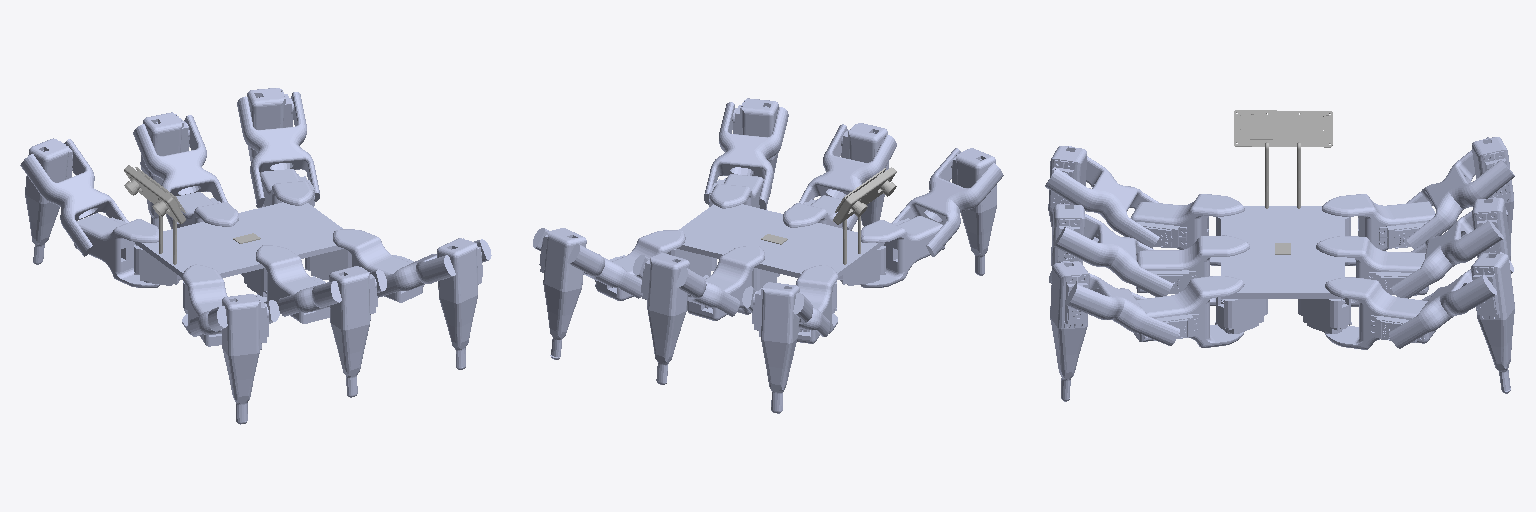
--- Facts derived from the render (not from the file) ---
The picture shows the robot from 3 angles, left to right: view 1: azimuth 30°, elevation 25°; view 2: azimuth 150°, elevation 25°; view 3: azimuth 270°, elevation 25°; orthographic projection.
Model hexaurdf10 with 27 links and 26 joints (18 revolute, 8 fixed), rooted at base_link, posed all joints at 0.
Visible links, largest first — view 1: base_link, tibia_lf, thigh_rf, tibia_lm, thigh_rr, tibia_lr, thigh_rm, c1_rf, tibia_rf, c1_lm, c1_lr, c1_lf (+8 smaller); view 2: base_link, tibia_rf, tibia_rm, thigh_lf, thigh_lr, tibia_rr, c1_lf, thigh_lm, tibia_lf, c1_rm, thigh_rr, tibia_lm (+8 smaller); view 3: base_link, camera_link, c1_lr, c1_rr, thigh_lf, thigh_rf, thigh_lm, thigh_rm, c1_lf, c1_rf, tibia_rr, tibia_lr (+8 smaller).
Link boxes in pixels (x1,y1,x2,y2): base_link: (134,202,351,313); tibia_lf: (222,294,268,421); thigh_rf: (20,139,128,256); tibia_lm: (329,266,377,394); thigh_rr: (237,92,319,206); tibia_lr: (437,238,482,367); thigh_rm: (133,115,227,228); c1_rf: (74,213,159,287); tibia_rf: (25,138,72,262); c1_lm: (256,245,329,323); c1_lr: (333,229,423,302); c1_lf: (182,264,227,346); base_link: (667,204,885,313); tibia_rf: (752,282,799,410); tibia_rm: (641,253,689,382); thigh_lf: (892,148,1003,256); thigh_lr: (704,102,788,209); tibia_rr: (539,228,586,357); c1_lf: (860,216,944,287); thigh_lm: (799,124,896,230); tibia_lf: (951,148,996,273); c1_rm: (687,246,764,320); thigh_rr: (533,228,642,298); tibia_lm: (841,123,888,226); base_link: (1215,206,1351,333); camera_link: (1234,110,1332,208); c1_lr: (1134,276,1244,347); c1_rr: (1325,277,1435,349); thigh_lf: (1045,146,1159,248); thigh_rf: (1406,137,1514,248); thigh_lm: (1052,203,1172,296); thigh_rm: (1391,197,1507,298); c1_lf: (1131,194,1244,265); c1_rf: (1322,194,1435,265); tibia_rr: (1471,253,1514,390); tibia_lr: (1050,261,1089,398).
Size in the robot's own frame: 0.3361 by 0.4542 by 0.1908 metres.
Meshes: 27 distinct files referenced, 27 mesh visuals loaded (27 binary STL).

URDF robot description (hexaurdf10):
<?xml version="1.0" encoding="utf-8"?>
<!-- This URDF was automatically created by SolidWorks to URDF Exporter! Originally created by Stephen Brawner ([email redacted]) 
     Commit Version: 1.6.0-1-g15f4949  Build Version: 1.6.7594.29634
     For more information, please see http://wiki.ros.org/sw_urdf_exporter -->
<robot
  name="hexaurdf10">
  <link
    name="base_link">
    <inertial>
      <origin
        xyz="-9.01995993685678E-05 -7.02233808926034E-06 -0.0170204486555059"
        rpy="0 0 0" />
      <mass
        value="0.527164873283659" />
      <inertia
        ixx="3.1081800"
        ixy="-0.25460189"
        ixz="2.0318174"
        iyy="6.3787776"
        iyz="0.16417863"
        izz="5.3316425" />
    </inertial>
    <visual>
      <origin
        xyz="0 0 0"
        rpy="0 0 0" />
      <geometry>
        <mesh
          filename="package://hexaurdf10/meshes/base_link.STL" />
      </geometry>
      <material
        name="">
        <color
          rgba="0.792156862745098 0.819607843137255 0.933333333333333 1" />
      </material>
    </visual>
    <collision>
      <origin
        xyz="0 0 0"
        rpy="0 0 0" />
      <geometry>
        <mesh
          filename="package://hexaurdf10/meshes/base_link.STL" />
      </geometry>
    </collision>
  </link>
  <link
    name="c1_rf">
    <inertial>
      <origin
        xyz="-0.00996677615501421 0.0534816504142664 0.0283131774124853"
        rpy="0 0 0" />
      <mass
        value="0.115130491493586" />
      <inertia
        ixx="0.0051411124"
        ixy="-0.00057530255"
        ixz="-0.000024729049"
        iyy="0.0081915737"
        iyz="-0.000019223094"
        izz="0.0011379812" />
    </inertial>
    <visual>
      <origin
        xyz="0 0 0"
        rpy="0 0 0" />
      <geometry>
        <mesh
          filename="package://hexaurdf10/meshes/c1_rf.STL" />
      </geometry>
      <material
        name="">
        <color
          rgba="0.792156862745098 0.819607843137255 0.933333333333333 1" />
      </material>
    </visual>
    <collision>
      <origin
        xyz="0 0 0"
        rpy="0 0 0" />
      <geometry>
        <mesh
          filename="package://hexaurdf10/meshes/c1_rf.STL" />
      </geometry>
    </collision>
  </link>
  <joint
    name="j_c1_rf"
    type="revolute">
    <origin
      xyz="-0.087434 0.047179 -0.05093"
      rpy="0 0 0" />
    <parent
      link="base_link" />
    <child
      link="c1_rf" />
    <axis
      xyz="0 0 1" />
    <limit
      lower="-1.57"
      upper="1.57"
      effort="100"
      velocity="100" />
  </joint>
  <link
    name="thigh_rf">
    <inertial>
      <origin
        xyz="-0.0392463982034434 0.033810727811229 0.0314749457890496"
        rpy="0 0 0" />
      <mass
        value="0.0660859499924982" />
      <inertia
        ixx="0.0051411124"
        ixy="-0.00057530255"
        ixz="-0.000024729049"
        iyy="0.0081915737"
        iyz="-0.000019223094"
        izz="0.0011379812" />
    </inertial>
    <visual>
      <origin
        xyz="0 0 0"
        rpy="0 0 0" />
      <geometry>
        <mesh
          filename="package://hexaurdf10/meshes/thigh_rf.STL" />
      </geometry>
      <material
        name="">
        <color
          rgba="0.792156862745098 0.819607843137255 0.933333333333333 1" />
      </material>
    </visual>
    <collision>
      <origin
        xyz="0 0 0"
        rpy="0 0 0" />
      <geometry>
        <mesh
          filename="package://hexaurdf10/meshes/thigh_rf.STL" />
      </geometry>
    </collision>
  </link>
  <joint
    name="j_thigh_rf"
    type="revolute">
    <origin
      xyz="0.016657 0.085859 0.0282"
      rpy="0 0 0" />
    <parent
      link="c1_rf" />
    <child
      link="thigh_rf" />
    <axis
      xyz="0.97301 0.23076 0" />
    <limit
      lower="-1.57"
      upper="1.57"
      effort="100"
      velocity="100" />
  </joint>
  <link
    name="tibia_rf">
    <inertial>
      <origin
        xyz="-0.0309143702456073 -0.00434467341630906 -0.0239746701916343"
        rpy="0 0 0" />
      <mass
        value="0.0831637264780428" />
      <inertia
        ixx="0.0051411124"
        ixy="-0.00057530255"
        ixz="-0.000024729049"
        iyy="0.0081915737"
        iyz="-0.000019223094"
        izz="0.0011379812" />
    </inertial>
    <visual>
      <origin
        xyz="0 0 0"
        rpy="0 0 0" />
      <geometry>
        <mesh
          filename="package://hexaurdf10/meshes/tibia_rf.STL" />
      </geometry>
      <material
        name="">
        <color
          rgba="0.792156862745098 0.819607843137255 0.933333333333333 1" />
      </material>
    </visual>
    <collision>
      <origin
        xyz="0 0 0"
        rpy="0 0 0" />
      <geometry>
        <mesh
          filename="package://hexaurdf10/meshes/tibia_rf.STL" />
      </geometry>
    </collision>
  </link>
  <joint
    name="j_tibia_rf"
    type="revolute">
    <origin
      xyz="-0.0205222673024253 0.0756993537012256 0.0588106656482051"
      rpy="0 0 0" />
    <parent
      link="thigh_rf" />
    <child
      link="tibia_rf" />
    <axis
      xyz="0.973010691759489 0.23076003493179 0" />
    <limit
      lower="-1.57"
      upper="1.57"
      effort="100"
      velocity="100" />
  </joint>
  <link
    name="tip1">
    <inertial>
      <origin
        xyz="2.8944120935015E-05 -0.000122044266207932 0.0010109650611296"
        rpy="0 0 0" />
      <mass
        value="0.000239235376940892" />
      <inertia
        ixx="1.17700421937413E-09"
        ixy="-2.38032850442416E-10"
        ixz="1.72208787878232E-11"
        iyy="2.12422901332552E-09"
        iyz="-7.26126566370207E-11"
        izz="2.7729159203194E-09" />
    </inertial>
    <visual>
      <origin
        xyz="0 0 0"
        rpy="0 0 0" />
      <geometry>
        <mesh
          filename="package://hexaurdf10/meshes/tip1.STL" />
      </geometry>
      <material
        name="">
        <color
          rgba="0.792156862745098 0.819607843137255 0.933333333333333 1" />
      </material>
    </visual>
    <collision>
      <origin
        xyz="0 0 0"
        rpy="0 0 0" />
      <geometry>
        <mesh
          filename="package://hexaurdf10/meshes/tip1.STL" />
      </geometry>
    </collision>
  </link>
  <joint
    name="tip1_jt"
    type="fixed">
    <origin
      xyz="-0.036037 0.0066924 -0.1204"
      rpy="0 0 0" />
    <parent
      link="tibia_rf" />
    <child
      link="tip1" />
    <axis
      xyz="0 0 0" />
    <limit
      effort="100"
      velocity="100" />
  </joint>
  <gazebo reference="tip1">
    <mu1 value="2000.0"/>
    <mu2 value="1000.0"/>
    <kp value="1000000"/>
    <kd value="1.0"/>
    <!-- Contact Sensor -->
    <sensor name="tip1_sensor" type="contact">
      <always_on>true</always_on>
      <contact>
        <collision>tibia_rf_fixed_joint_lump__tip1_collision_1</collision>
      </contact>
      <plugin filename="libgazebo_ros_bumper.so" name="back_left_foot_plugin">
        <bumperTopicName>tip1_contactsensor_state</bumperTopicName>
        <frameName>tip1</frameName>
      </plugin>
    </sensor>
  </gazebo>

  <link
    name="c1_rm">
    <inertial>
      <origin
        xyz="0.00702595295081485 0.0539468244177731 0.0283131778377294"
        rpy="0 0 0" />
      <mass
        value="0.115130507631966" />
      <inertia
        ixx="0.0051411124"
        ixy="-0.00057530255"
        ixz="-0.000024729049"
        iyy="0.0081915737"
        iyz="-0.000019223094"
        izz="0.0011379812" />
    </inertial>
    <visual>
      <origin
        xyz="0 0 0"
        rpy="0 0 0" />
      <geometry>
        <mesh
          filename="package://hexaurdf10/meshes/c1_rm.STL" />
      </geometry>
      <material
        name="">
        <color
          rgba="0.792156862745098 0.819607843137255 0.933333333333333 1" />
      </material>
    </visual>
    <collision>
      <origin
        xyz="0 0 0"
        rpy="0 0 0" />
      <geometry>
        <mesh
          filename="package://hexaurdf10/meshes/c1_rm.STL" />
      </geometry>
    </collision>
  </link>
  <joint
    name="j_c1_rm"
    type="revolute">
    <origin
      xyz="1.04119442682904E-05 0.0419777704086039 -0.05093"
      rpy="0 0 0" />
    <parent
      link="base_link" />
    <child
      link="c1_rm" />
    <axis
      xyz="0 0 1" />
    <limit
      lower="-1.57"
      upper="1.57"
      effort="100"
      velocity="100" />
  </joint>
  <link
    name="thigh_rm">
    <inertial>
      <origin
        xyz="-0.026895361536933 0.0442728429591131 0.0314749456998863"
        rpy="0 0 0" />
      <mass
        value="0.0660859497825229" />
      <inertia
        ixx="0.0051411124"
        ixy="-0.00057530255"
        ixz="-0.000024729049"
        iyy="0.0081915737"
        iyz="-0.000019223094"
        izz="0.0011379812" />
    </inertial>
    <visual>
      <origin
        xyz="0 0 0"
        rpy="0 0 0" />
      <geometry>
        <mesh
          filename="package://hexaurdf10/meshes/thigh_rm.STL" />
      </geometry>
      <material
        name="">
        <color
          rgba="0.792156862745098 0.819607843137255 0.933333333333333 1" />
      </material>
    </visual>
    <collision>
      <origin
        xyz="0 0 0"
        rpy="0 0 0" />
      <geometry>
        <mesh
          filename="package://hexaurdf10/meshes/thigh_rm.STL" />
      </geometry>
    </collision>
  </link>
  <joint
    name="j_thigh_rm"
    type="revolute">
    <origin
      xyz="0.0423424111674541 0.0765264348093442 0.0282"
      rpy="0 0 0" />
    <parent
      link="c1_rm" />
    <child
      link="thigh_rm" />
    <axis
      xyz="0.996729696182891 -0.080807875526849 0" />
    <limit
      lower="-1.57"
      upper="1.57"
      effort="100"
      velocity="100" />
  </joint>
  <link
    name="tibia_rm">
    <inertial>
      <origin
        xyz="-0.0307460867657561 0.00540861064554149 -0.0239746471855047"
        rpy="0 0 0" />
      <mass
        value="0.0831636657575238" />
      <inertia
        ixx="0.0051411124"
        ixy="-0.00057530255"
        ixz="-0.000024729049"
        iyy="0.0081915737"
        iyz="-0.000019223094"
        izz="0.0011379812" />
    </inertial>
    <visual>
      <origin
        xyz="0 0 0"
        rpy="0 0 0" />
      <geometry>
        <mesh
          filename="package://hexaurdf10/meshes/tibia_rm.STL" />
      </geometry>
      <material
        name="">
        <color
          rgba="0.792156862745098 0.819607843137255 0.933333333333333 1" />
      </material>
    </visual>
    <collision>
      <origin
        xyz="0 0 0"
        rpy="0 0 0" />
      <geometry>
        <mesh
          filename="package://hexaurdf10/meshes/tibia_rm.STL" />
      </geometry>
    </collision>
  </link>
  <joint
    name="j_tibia_rm"
    type="revolute">
    <origin
      xyz="0.0038428667079584 0.0783376536633586 0.0588106656482051"
      rpy="0 0 0" />
    <parent
      link="thigh_rm" />
    <child
      link="tibia_rm" />
    <axis
      xyz="0.996729696182889 -0.0808078755268694 0" />
    <limit
      lower="-1.57"
      upper="1.57"
      effort="100"
      velocity="100" />
  </joint>
  <link
    name="tip2">
    <inertial>
      <origin
        xyz="-1.01356932210722E-05 -0.000125019329600962 0.00101096506112963"
        rpy="0 0 0" />
      <mass
        value="0.000239235376940891" />
      <inertia
        ixx="1.12747469759534E-09"
        ixy="8.53866107810884E-11"
        ixz="-6.03043169915054E-12"
        iyy="2.1737585351043E-09"
        iyz="-7.43827296059554E-11"
        izz="2.77291592031939E-09" />
    </inertial>
    <visual>
      <origin
        xyz="0 0 0"
        rpy="0 0 0" />
      <geometry>
        <mesh
          filename="package://hexaurdf10/meshes/tip2.STL" />
      </geometry>
      <material
        name="">
        <color
          rgba="0.792156862745098 0.819607843137255 0.933333333333333 1" />
      </material>
    </visual>
    <collision>
      <origin
        xyz="0 0 0"
        rpy="0 0 0" />
      <geometry>
        <mesh
          filename="package://hexaurdf10/meshes/tip2.STL" />
      </geometry>
    </collision>
  </link>
  <joint
    name="tip2_jt"
    type="fixed">
    <origin
      xyz="-0.032212 0.017488 -0.1204"
      rpy="0 0 0" />
    <parent
      link="tibia_rm" />
    <child
      link="tip2" />
    <axis
      xyz="0 0 0" />
    <limit
      effort="100"
      velocity="100" />
  </joint>
  <gazebo reference="tip2">
    <mu1 value="2000.0"/>
    <mu2 value="1000.0"/>
    <kp value="1000000"/>
    <kd value="1.0"/>
    <!-- Contact Sensor -->
    <sensor name="tip2_sensor" type="contact">
      <always_on>true</always_on>
      <contact>
        <collision>tibia_rm_fixed_joint_lump__tip2_collision_1</collision>
      </contact>
      <plugin filename="libgazebo_ros_bumper.so" name="tip2_plugin">
        <bumperTopicName>tip2_contactsensor_state</bumperTopicName>
        <frameName>tip2</frameName>
      </plugin>
    </sensor>
  </gazebo>
  <link
    name="c1_rr">
    <inertial>
      <origin
        xyz="0.0221997669125888 0.0542198822140822 0.0283131763965716"
        rpy="0 0 0" />
      <mass
        value="0.115130485576148" />
      <inertia
        ixx="0.0051411124"
        ixy="-0.00057530255"
        ixz="-0.000024729049"
        iyy="0.0081915737"
        iyz="-0.000019223094"
        izz="0.0011379812" />
    </inertial>
    <visual>
      <origin
        xyz="0 0 0"
        rpy="0 0 0" />
      <geometry>
        <mesh
          filename="package://hexaurdf10/meshes/c1_rr.STL" />
      </geometry>
      <material
        name="">
        <color
          rgba="0.792156862745098 0.819607843137255 0.933333333333333 1" />
      </material>
    </visual>
    <collision>
      <origin
        xyz="0 0 0"
        rpy="0 0 0" />
      <geometry>
        <mesh
          filename="package://hexaurdf10/meshes/c1_rr.STL" />
      </geometry>
    </collision>
  </link>
  <joint
    name="j_c1_rr"
    type="revolute">
    <origin
      xyz="0.0872345529340218 0.0471785774978925 -0.05093"
      rpy="0 0 0" />
    <parent
      link="base_link" />
    <child
      link="c1_rr" />
    <axis
      xyz="0 0 1" />
    <limit
      lower="-1.57"
      upper="1.57"
      effort="100"
      velocity="100" />
  </joint>
  <link
    name="thigh_rr">
    <inertial>
      <origin
        xyz="-0.0162592743139039 0.0491841543475647 0.0314749458152822"
        rpy="0 0 0" />
      <mass
        value="0.0660859500921707" />
      <inertia
        ixx="0.0051411124"
        ixy="-0.00057530255"
        ixz="-0.000024729049"
        iyy="0.0081915737"
        iyz="-0.000019223094"
        izz="0.0011379812" />
    </inertial>
    <visual>
      <origin
        xyz="0 0 0"
        rpy="0 0 0" />
      <geometry>
        <mesh
          filename="package://hexaurdf10/meshes/thigh_rr.STL" />
      </geometry>
      <material
        name="">
        <color
          rgba="0.792156862745098 0.819607843137255 0.933333333333333 1" />
      </material>
    </visual>
    <collision>
      <origin
        xyz="0 0 0"
        rpy="0 0 0" />
      <geometry>
        <mesh
          filename="package://hexaurdf10/meshes/thigh_rr.STL" />
      </geometry>
    </collision>
  </link>
  <joint
    name="j_thigh_rr"
    type="revolute">
    <origin
      xyz="0.0616868050052167 0.0682863147581348 0.0282000000000001"
      rpy="0 0 0" />
    <parent
      link="c1_rr" />
    <child
      link="thigh_rr" />
    <axis
      xyz="0.956610607760163 -0.291369430655879 0" />
    <limit
      lower="-1.57"
      upper="1.57"
      effort="100"
      velocity="100" />
  </joint>
  <link
    name="tibia_rr">
    <inertial>
      <origin
        xyz="-0.0287444949835653 0.0121790653958599 -0.0239746721026053"
        rpy="0 0 0" />
      <mass
        value="0.0831637267082012" />
      <inertia
        ixx="0.0051411124"
        ixy="-0.00057530255"
        ixz="-0.000024729049"
        iyy="0.0081915737"
        iyz="-0.000019223094"
        izz="0.0011379812" />
    </inertial>
    <visual>
      <origin
        xyz="0 0 0"
        rpy="0 0 0" />
      <geometry>
        <mesh
          filename="package://hexaurdf10/meshes/tibia_rr.STL" />
      </geometry>
      <material
        name="">
        <color
          rgba="0.792156862745098 0.819607843137255 0.933333333333333 1" />
      </material>
    </visual>
    <collision>
      <origin
        xyz="0 0 0"
        rpy="0 0 0" />
      <geometry>
        <mesh
          filename="package://hexaurdf10/meshes/tibia_rr.STL" />
      </geometry>
    </collision>
  </link>
  <joint
    name="j_tibia_rr"
    type="revolute">
    <origin
      xyz="0.0213473915477253 0.0754708187322992 0.0588106656482051"
      rpy="0 0 0" />
    <parent
      link="thigh_rr" />
    <child
      link="tibia_rr" />
    <axis
      xyz="0.956610607760165 -0.291369430655872 0" />
    <limit
      lower="-1.57"
      upper="1.57"
      effort="100"
      velocity="100" />
  </joint>
  <link
    name="tip3">
    <inertial>
      <origin
        xyz="0.00101096506112963 -0.000119544680993067 3.79688595718852E-05"
        rpy="0 0 0" />
      <mass
        value="0.000239235376940891" />
      <inertia
        ixx="2.77291592031939E-09"
        ixy="-7.11254788401556E-11"
        ixz="2.25903260239757E-11"
        iyy="2.0835374700736E-09"
        iyz="-3.05855970793227E-10"
        izz="1.21769576262603E-09" />
    </inertial>
    <visual>
      <origin
        xyz="0 0 0"
        rpy="0 0 0" />
      <geometry>
        <mesh
          filename="package://hexaurdf10/meshes/tip3.STL" />
      </geometry>
      <material
        name="">
        <color
          rgba="0.792156862745098 0.819607843137255 0.933333333333333 1" />
      </material>
    </visual>
    <collision>
      <origin
        xyz="0 0 0"
        rpy="0 0 0" />
      <geometry>
        <mesh
          filename="package://hexaurdf10/meshes/tip3.STL" />
      </geometry>
    </collision>
  </link>
  <joint
    name="tip3_jt"
    type="fixed">
    <origin
      xyz="-0.0274588315162456 0.0242788522498839 -0.12040476058911"
      rpy="3.14159265358979 -1.5707963267949 0" />
    <parent
      link="tibia_rr" />
    <child
      link="tip3" />
    <axis
      xyz="0 0 0" />
    <limit
      effort="100"
      velocity="100" />
  </joint>
  <gazebo reference="tip3">
    <mu1 value="2000.0"/>
    <mu2 value="1000.0"/>
    <kp value="1000000"/>
    <kd value="1.0"/>
    <!-- Contact Sensor -->
    <sensor name="tip3_sensor" type="contact">
      <always_on>true</always_on>
      <contact>
        <collision>tibia_rr_fixed_joint_lump__tip3_collision_1</collision>
      </contact>
      <plugin filename="libgazebo_ros_bumper.so" name="tip3_plugin">
        <bumperTopicName>tip3_contactsensor_state</bumperTopicName>
        <frameName>tip3</frameName>
      </plugin>
    </sensor>
  </gazebo>
  <link
    name="c1_lr">
    <inertial>
      <origin
        xyz="0.0184026875519722 -0.051195357644339 0.0282453400903533"
        rpy="0 0 0" />
      <mass
        value="0.115130487166804" />
      <inertia
        ixx="0.0051411124"
        ixy="-0.00057530255"
        ixz="-0.000024729049"
        iyy="0.0081915737"
        iyz="-0.000019223094"
        izz="0.0011379812" />
    </inertial>
    <visual>
      <origin
        xyz="0 0 0"
        rpy="0 0 0" />
      <geometry>
        <mesh
          filename="package://hexaurdf10/meshes/c1_lr.STL" />
      </geometry>
      <material
        name="">
        <color
          rgba="0.792156862745098 0.819607843137255 0.933333333333333 1" />
      </material>
    </visual>
    <collision>
      <origin
        xyz="0 0 0"
        rpy="0 0 0" />
      <geometry>
        <mesh
          filename="package://hexaurdf10/meshes/c1_lr.STL" />
      </geometry>
    </collision>
  </link>
  <joint
    name="j_c1_lr"
    type="revolute">
    <origin
      xyz="0.0870789894421607 -0.0473341409897536 -0.05093"
      rpy="0 0 0" />
    <parent
      link="base_link" />
    <child
      link="c1_lr" />
    <axis
      xyz="0 0 -1" />
    <limit
      lower="-1.57"
      upper="1.57"
      effort="100"
      velocity="100" />
  </joint>
  <link
    name="thigh_lr">
    <inertial>
      <origin
        xyz="-0.015725862641403 -0.0525267254797426 0.0258410063023246"
        rpy="0 0 0" />
      <mass
        value="0.0660859502202923" />
      <inertia
        ixx="0.0051411124"
        ixy="-0.00057530255"
        ixz="-0.000024729049"
        iyy="0.0081915737"
        iyz="-0.000019223094"
        izz="0.0011379812" />
    </inertial>
    <visual>
      <origin
        xyz="0 0 0"
        rpy="0 0 0" />
      <geometry>
        <mesh
          filename="package://hexaurdf10/meshes/thigh_lr.STL" />
      </geometry>
      <material
        name="">
        <color
          rgba="0.792156862745098 0.819607843137255 0.933333333333333 1" />
      </material>
    </visual>
    <collision>
      <origin
        xyz="0 0 0"
        rpy="0 0 0" />
      <geometry>
        <mesh
          filename="package://hexaurdf10/meshes/thigh_lr.STL" />
      </geometry>
    </collision>
  </link>
  <joint
    name="j_thigh_lr"
    type="revolute">
    <origin
      xyz="0.0577315713668131 -0.065698102526794 0.0282"
      rpy="0 0 0" />
    <parent
      link="c1_lr" />
    <child
      link="thigh_lr" />
    <axis
      xyz="-0.956375489427927 -0.292140245809256 0" />
    <limit
      lower="-1.57"
      upper="1.57"
      effort="100"
      velocity="100" />
  </joint>
  <link
    name="tibia_lr">
    <inertial>
      <origin
        xyz="-0.0294274762289797 -0.0100598567813739 -0.0241284533134065"
        rpy="0 0 0" />
      <mass
        value="0.0831637325814451" />
      <inertia
        ixx="0.0051411124"
        ixy="-0.00057530255"
        ixz="-0.000024729049"
        iyy="0.0081915737"
        iyz="-0.000019223094"
        izz="0.0011379812" />
    </inertial>
    <visual>
      <origin
        xyz="0 0 0"
        rpy="0 0 0" />
      <geometry>
        <mesh
          filename="package://hexaurdf10/meshes/tibia_lr.STL" />
      </geometry>
      <material
        name="">
        <color
          rgba="0.792156862745098 0.819607843137255 0.933333333333333 1" />
      </material>
    </visual>
    <collision>
      <origin
        xyz="0 0 0"
        rpy="0 0 0" />
      <geometry>
        <mesh
          filename="package://hexaurdf10/meshes/tibia_lr.STL" />
      </geometry>
    </collision>
  </link>
  <joint
    name="j_tibia_lr"
    type="revolute">
    <origin
      xyz="0.0225227920570593 -0.0822900871129893 0.0482836970507796"
      rpy="0 0 0" />
    <parent
      link="thigh_lr" />
    <child
      link="tibia_lr" />
    <axis
      xyz="-0.956375489427925 -0.292140245809264 0" />
    <limit
      lower="-1.57"
      upper="1.57"
      effort="100"
      velocity="100" />
  </joint>
  <link
    name="tip4">
    <inertial>
      <origin
        xyz="-1.34483772956662E-05 4.40257670850236E-05 0.00101767568156874"
        rpy="0 0 0" />
      <mass
        value="0.000239235376940891" />
      <inertia
        ixx="1.21034606196609E-09"
        ixy="-2.93957096001634E-10"
        ixz="-8.05449062996898E-12"
        iyy="2.08287543495912E-09"
        iyz="2.63678747753188E-11"
        izz="2.78092765609382E-09" />
    </inertial>
    <visual>
      <origin
        xyz="0 0 0"
        rpy="0 0 0" />
      <geometry>
        <mesh
          filename="package://hexaurdf10/meshes/tip4.STL" />
      </geometry>
      <material
        name="">
        <color
          rgba="0.792156862745098 0.819607843137255 0.933333333333333 1" />
      </material>
    </visual>
    <collision>
      <origin
        xyz="0 0 0"
        rpy="0 0 0" />
      <geometry>
        <mesh
          filename="package://hexaurdf10/meshes/tip4.STL" />
      </geometry>
    </collision>
  </link>
  <joint
    name="tip4_jt"
    type="fixed">
    <origin
      xyz="-0.0304883031090567 -0.014930274944373 -0.121195324707457"
      rpy="0 0 0" />
    <parent
      link="tibia_lr" />
    <child
      link="tip4" />
    <axis
      xyz="0 0 0" />
  </joint>
  <gazebo reference="tip4">
    <mu1 value="2000.0"/>
    <mu2 value="1000.0"/>
    <kp value="1000000"/>
    <kd value="1.0"/>
    <!-- Contact Sensor -->
    <sensor name="tip4_sensor" type="contact">
      <always_on>true</always_on>
      <contact>
        <collision>tibia_lr_fixed_joint_lump__tip4_collision_1</collision>
      </contact>
      <plugin filename="libgazebo_ros_bumper.so" name="tip4_plugin">
        <bumperTopicName>tip4_contactsensor_state</bumperTopicName>
        <frameName>tip4</frameName>
      </plugin>
    </sensor>
  </gazebo>
  <link
    name="c1_lm">
    <inertial>
      <origin
        xyz="0.00410518430927102 -0.0542473170200753 0.0282453387557866"
        rpy="0 0 0" />
      <mass
        value="0.11513051040574" />
      <inertia
        ixx="0.0051411124"
        ixy="-0.00057530255"
        ixz="-0.000024729049"
        iyy="0.0081915737"
        iyz="-0.000019223094"
        izz="0.0011379812" />
    </inertial>
    <visual>
      <origin
        xyz="0 0 0"
        rpy="0 0 0" />
      <geometry>
        <mesh
          filename="package://hexaurdf10/meshes/c1_lm.STL" />
      </geometry>
      <material
        name="">
        <color
          rgba="0.792156862745098 0.819607843137255 0.933333333333333 1" />
      </material>
    </visual>
    <collision>
      <origin
        xyz="0 0 0"
        rpy="0 0 0" />
      <geometry>
        <mesh
          filename="package://hexaurdf10/meshes/c1_lm.STL" />
      </geometry>
    </collision>
  </link>
  <joint
    name="j_c1_lm"
    type="revolute">
    <origin
      xyz="-0.000209588055731805 -0.041977770408604 -0.05093"
      rpy="0 0 0" />
    <parent
      link="base_link" />
    <child
      link="c1_lm" />
    <axis
      xyz="0 0 -1" />
    <limit
      lower="-1.57"
      upper="1.57"
      effort="100"
      velocity="100" />
  </joint>
  <link
    name="thigh_lm">
    <inertial>
      <origin
        xyz="-0.0291455773014262 -0.0464423839953297 0.0258410061827461"
        rpy="0 0 0" />
      <mass
        value="0.0660859498433511" />
      <inertia
        ixx="0.0051411124"
        ixy="-0.00057530255"
        ixz="-0.000024729049"
        iyy="0.0081915737"
        iyz="-0.000019223094"
        izz="0.0011379812" />
    </inertial>
    <visual>
      <origin
        xyz="0 0 0"
        rpy="0 0 0" />
      <geometry>
        <mesh
          filename="package://hexaurdf10/meshes/thigh_lm.STL" />
      </geometry>
      <material
        name="">
        <color
          rgba="0.792156862745098 0.819607843137255 0.933333333333333 1" />
      </material>
    </visual>
    <collision>
      <origin
        xyz="0 0 0"
        rpy="0 0 0" />
      <geometry>
        <mesh
          filename="package://hexaurdf10/meshes/thigh_lm.STL" />
      </geometry>
    </collision>
  </link>
  <joint
    name="j_thigh_lm"
    type="revolute">
    <origin
      xyz="0.0381519901013576 -0.0786994323957198 0.0282000000000001"
      rpy="0 0 0" />
    <parent
      link="c1_lm" />
    <child
      link="thigh_lm" />
    <axis
      xyz="-0.99577013165006 0.0918795130245163 0" />
    <limit
      lower="-1.57"
      upper="1.57"
      effort="100"
      velocity="100" />
  </joint>
  <link
    name="tibia_lm">
    <inertial>
      <origin
        xyz="-0.0310437838343144 -0.00186025755413441 -0.0241284529459698"
        rpy="0 0 0" />
      <mass
        value="0.0831637330024272" />
      <inertia
        ixx="0.0051411124"
        ixy="-0.00057530255"
        ixz="-0.000024729049"
        iyy="0.0081915737"
        iyz="-0.000019223094"
        izz="0.0011379812" />
    </inertial>
    <visual>
      <origin
        xyz="0 0 0"
        rpy="0 0 0" />
      <geometry>
        <mesh
          filename="package://hexaurdf10/meshes/tibia_lm.STL" />
      </geometry>
      <material
        name="">
        <color
          rgba="0.792156862745098 0.819607843137255 0.933333333333333 1" />
      </material>
    </visual>
    <collision>
      <origin
        xyz="0 0 0"
        rpy="0 0 0" />
      <geometry>
        <mesh
          filename="package://hexaurdf10/meshes/tibia_lm.STL" />
      </geometry>
    </collision>
  </link>
  <joint
    name="j_tibia_lm"
    type="revolute">
    <origin
      xyz="-0.000203810616336522 -0.0853164290177546 0.0482836970507797"
      rpy="0 0 0" />
    <parent
      link="thigh_lm" />
    <child
      link="tibia_lm" />
    <axis
      xyz="-0.99577013165006 0.0918795130245162 0" />
    <limit
      lower="-1.57"
      upper="1.57"
      effort="100"
      velocity="100" />
  </joint>
  <link
    name="tip5">
    <inertial>
      <origin
        xyz="-1.23898912395004E-06 4.60173002822251E-05 0.00101767568156877"
        rpy="0 0 0" />
      <mass
        value="0.000239235376940891" />
      <inertia
        ixx="1.12131430106366E-09"
        ixy="-2.83071249629712E-11"
        ixz="-7.42054306639292E-13"
        iyy="2.17190719586154E-09"
        iyz="2.75606421347752E-11"
        izz="2.78092765609381E-09" />
    </inertial>
    <visual>
      <origin
        xyz="0 0 0"
        rpy="0 0 0" />
      <geometry>
        <mesh
          filename="package://hexaurdf10/meshes/tip5.STL" />
      </geometry>
      <material
        name="">
        <color
          rgba="0.792156862745098 0.819607843137255 0.933333333333333 1" />
      </material>
    </visual>
    <collision>
      <origin
        xyz="0 0 0"
        rpy="0 0 0" />
      <geometry>
        <mesh
          filename="package://hexaurdf10/meshes/tip5.STL" />
      </geometry>
    </collision>
  </link>
  <joint
    name="tip5_jt"
    type="fixed">
    <origin
      xyz="-0.0333632688956824 -0.00627232213607404 -0.121195324707457"
      rpy="0 0 0" />
    <parent
      link="tibia_lm" />
    <child
      link="tip5" />
    <axis
      xyz="0 0 0" />
  </joint>
  <gazebo reference="tip5">
    <mu1 value="2000.0"/>
    <mu2 value="1000.0"/>
    <kp value="1000000"/>
    <kd value="1.0"/>
    <!-- Contact Sensor -->
    <sensor name="tip5_sensor" type="contact">
      <always_on>true</always_on>
      <contact>
        <collision>tibia_lm_fixed_joint_lump__tip5_collision_1</collision>
      </contact>
      <plugin filename="libgazebo_ros_bumper.so" name="tip5_plugin">
        <bumperTopicName>tip5_contactsensor_state</bumperTopicName>
        <frameName>tip5</frameName>
      </plugin>
    </sensor>
  </gazebo>
  <link
    name="c1_lf">
    <inertial>
      <origin
        xyz="-0.0105561368542174 -0.0533684505149676 0.028245339183021"
        rpy="0 0 0" />
      <mass
        value="0.115130490364098" />
      <inertia
        ixx="0.0051411124"
        ixy="-0.00057530255"
        ixz="-0.000024729049"
        iyy="0.0081915737"
        iyz="-0.000019223094"
        izz="0.0011379812" />
    </inertial>
    <visual>
      <origin
        xyz="0 0 0"
        rpy="0 0 0" />
      <geometry>
        <mesh
          filename="package://hexaurdf10/meshes/c1_lf.STL" />
      </geometry>
      <material
        name="">
        <color
          rgba="0.792156862745098 0.819607843137255 0.933333333333333 1" />
      </material>
    </visual>
    <collision>
      <origin
        xyz="0 0 0"
        rpy="0 0 0" />
      <geometry>
        <mesh
          filename="package://hexaurdf10/meshes/c1_lf.STL" />
      </geometry>
    </collision>
  </link>
  <joint
    name="j_c1_lf"
    type="revolute">
    <origin
      xyz="-0.0874337290454854 -0.0471785774978922 -0.05093"
      rpy="0 0 0" />
    <parent
      link="base_link" />
    <child
      link="c1_lf" />
    <axis
      xyz="0 0 -1" />
    <limit
      lower="-1.57"
      upper="1.57"
      effort="100"
      velocity="100" />
  </joint>
  <link
    name="thigh_lf">
    <inertial>
      <origin
        xyz="-0.0405071770934144 -0.0369530550570344 0.0258410062748393"
        rpy="0 0 0" />
      <mass
        value="0.0660859501573358" />
      <inertia
        ixx="0.0051411124"
        ixy="-0.00057530255"
        ixz="-0.000024729049"
        iyy="0.0081915737"
        iyz="-0.000019223094"
        izz="0.0011379812" />
    </inertial>
    <visual>
      <origin
        xyz="0 0 0"
        rpy="0 0 0" />
      <geometry>
        <mesh
          filename="package://hexaurdf10/meshes/thigh_lf.STL" />
      </geometry>
      <material
        name="">
        <color
          rgba="0.792156862745098 0.819607843137255 0.933333333333333 1" />
      </material>
    </visual>
    <collision>
      <origin
        xyz="0 0 0"
        rpy="0 0 0" />
      <geometry>
        <mesh
          filename="package://hexaurdf10/meshes/thigh_lf.STL" />
      </geometry>
    </collision>
  </link>
  <joint
    name="j_thigh_lf"
    type="revolute">
    <origin
      xyz="0.0157086456858173 -0.0860372794712854 0.0282000000000001"
      rpy="0 0 0" />
    <parent
      link="c1_lf" />
    <child
      link="thigh_lf" />
    <axis
      xyz="-0.990436681141514 0.137968042130713 0" />
    <limit
      lower="-1.57"
      upper="1.57"
      effort="100"
      velocity="100" />
  </joint>
  <link
    name="tibia_lf">
    <inertial>
      <origin
        xyz="-0.0304100328765285 0.00651206661555905 -0.0241284534107476"
        rpy="0 0 0" />
      <mass
        value="0.0831637299024112" />
      <inertia
        ixx="0.0051411124"
        ixy="-0.00057530255"
        ixz="-0.000024729049"
        iyy="0.0081915737"
        iyz="-0.000019223094"
        izz="0.0011379812" />
    </inertial>
    <visual>
      <origin
        xyz="0 0 0"
        rpy="0 0 0" />
      <geometry>
        <mesh
          filename="package://hexaurdf10/meshes/tibia_lf.STL" />
      </geometry>
      <material
        name="">
        <color
          rgba="0.792156862745098 0.819607843137255 0.933333333333333 1" />
      </material>
    </visual>
    <collision>
      <origin
        xyz="0 0 0"
        rpy="0 0 0" />
      <geometry>
        <mesh
          filename="package://hexaurdf10/meshes/tibia_lf.STL" />
      </geometry>
    </collision>
  </link>
  <joint
    name="j_tibia_lf"
    type="revolute">
    <origin
      xyz="-0.0230193932677872 -0.0821525540241559 0.0482836970507797"
      rpy="0 0 0" />
    <parent
      link="thigh_lf" />
    <child
      link="tibia_lf" />
    <axis
      xyz="-0.990436681141515 0.137968042130712 0" />
    <limit
      lower="-1.57"
      upper="1.57"
      effort="100"
      velocity="100" />
  </joint>
  <link
    name="tip6">
    <inertial>
      <origin
        xyz="1.11162605727633E-05 4.46716439164024E-05 0.00101767568156877"
        rpy="0 0 0" />
      <mass
        value="0.000239235376940892" />
      <inertia
        ixx="1.18190356101911E-09"
        ixy="2.46545900213277E-10"
        ixz="6.65774127650596E-12"
        iyy="2.11131793590611E-09"
        iyz="2.67547027748436E-11"
        izz="2.78092765609382E-09" />
    </inertial>
    <visual>
      <origin
        xyz="0 0 0"
        rpy="0 0 0" />
      <geometry>
        <mesh
          filename="package://hexaurdf10/meshes/tip6.STL" />
      </geometry>
      <material
        name="">
        <color
          rgba="0.792156862745098 0.819607843137255 0.933333333333333 1" />
      </material>
    </visual>
    <collision>
      <origin
        xyz="0 0 0"
        rpy="0 0 0" />
      <geometry>
        <mesh
          filename="package://hexaurdf10/meshes/tip6.STL" />
      </geometry>
    </collision>
  </link>
  <joint
    name="tip6_jt"
    type="fixed">
    <origin
      xyz="-0.0338252558164659 0.00288128536159279 -0.121195324707457"
      rpy="0 0 0" />
    <parent
      link="tibia_lf" />
    <child
      link="tip6" />
    <axis
      xyz="0 0 0" />
  </joint>
  <gazebo reference="tip6">
    <mu1 value="2000.0"/>
    <mu2 value="1000.0"/>
    <kp value="1000000"/>
    <kd value="1.0"/>
    <!-- Contact Sensor -->
    <sensor name="tip6_sensor" type="contact">
      <always_on>true</always_on>
      <contact>
        <collision>tibia_lf_fixed_joint_lump__tip6_collision_1</collision>
      </contact>
      <plugin filename="libgazebo_ros_bumper.so" name="tip6_plugin">
        <bumperTopicName>tip6_contactsensor_state</bumperTopicName>
        <frameName>tip6</frameName>
      </plugin>
    </sensor>
  </gazebo>
  <link
    name="imu_link">
    <inertial>
      <origin
        xyz="0 0 -0.0005"
        rpy="0 0 0" />
      <mass
        value="0.0375" />
      <inertia
        ixx="7.0625E-09"
        ixy="-3.59111970552275E-24"
        ixz="2.68192909831876E-26"
        iyy="1.95625E-08"
        iyz="-2.88153880920263E-26"
        izz="2.65625E-08" />
    </inertial>
    <visual>
      <origin
        xyz="0 0 0"
        rpy="0 0 0" />
      <geometry>
        <mesh
          filename="package://hexaurdf10/meshes/imu_link.STL" />
      </geometry>
      <material
        name="">
        <color
          rgba="0.752941176470588 0.752941176470588 0.752941176470588 1" />
      </material>
    </visual>
    <collision>
      <origin
        xyz="0 0 0"
        rpy="0 0 0" />
      <geometry>
        <mesh
          filename="package://hexaurdf10/meshes/imu_link.STL" />
      </geometry>
    </collision>
  </link>
  <joint
    name="imu_jt"
    type="fixed">
    <origin
      xyz="-9.9588E-05 0 0.001"
      rpy="0 0 0" />
    <parent
      link="base_link" />
    <child
      link="imu_link" />
    <axis
      xyz="0 0 0" />
  </joint>
  <link
    name="camera_link">
    <inertial>
      <origin
        xyz="-0.00295566016403623 0.000408224654246045 -0.00114614643580409"
        rpy="0 0 0" />
      <mass
        value="0.0248866659018299" />
      <inertia
        ixx="1.92498237281233E-05"
        ixy="6.19344760790345E-07"
        ixz="2.83084375965545E-07"
        iyy="3.42853640675047E-06"
        iyz="1.03595008563604E-07"
        izz="1.70918886994227E-05" />
    </inertial>
    <visual>
      <origin
        xyz="0 0 0"
        rpy="0 0 0" />
      <geometry>
        <mesh
          filename="package://hexaurdf10/meshes/camera_link.STL" />
      </geometry>
      <material
        name="">
        <color
          rgba="0.752941176470588 0.752941176470588 0.752941176470588 1" />
      </material>
    </visual>
    <collision>
      <origin
        xyz="0 0 0"
        rpy="0 0 0" />
      <geometry>
        <mesh
          filename="package://hexaurdf10/meshes/camera_link.STL" />
      </geometry>
    </collision>
  </link>
  <joint
    name="camera_jt"
    type="fixed">
    <origin
      xyz="-0.113664058453648 0.000280846259388387 0.0736209638658032"
      rpy="0 0.523598775598304 3.12646564854384" />
    <parent
      link="base_link" />
    <child
      link="camera_link" />
    <axis
      xyz="0 0 0" />
  </joint>
    <transmission name="t_c1_rf">
        <type>transmission_interface/SimpleTransmission</type>
        <joint name="j_c1_rf">
            <hardwareInterface>hardware_interface/EffortJointInterface</hardwareInterface>
        </joint>
        <actuator name="m_c1_rf">
            <hardwareInterface>hardware_interface/EffortJointInterface</hardwareInterface>
            <mechanicalReduction>1</mechanicalReduction>
        </actuator>
    </transmission>
    <transmission name="t_thigh_rf">
        <type>transmission_interface/SimpleTransmission</type>
        <joint name="j_thigh_rf">
            <hardwareInterface>hardware_interface/EffortJointInterface</hardwareInterface>
        </joint>
        <actuator name="m_thigh_rf">
            <hardwareInterface>hardware_interface/EffortJointInterface</hardwareInterface>
            <mechanicalReduction>1</mechanicalReduction>
        </actuator>
    </transmission>
    <transmission name="t_tibia_rf">
        <type>transmission_interface/SimpleTransmission</type>
        <joint name="j_tibia_rf">
            <hardwareInterface>hardware_interface/EffortJointInterface</hardwareInterface>
        </joint>
        <actuator name="m_tibia_rf">
            <hardwareInterface>hardware_interface/EffortJointInterface</hardwareInterface>
            <mechanicalReduction>1</mechanicalReduction>
        </actuator>
    </transmission>
    <transmission name="t_c1_rm">
        <type>transmission_interface/SimpleTransmission</type>
        <joint name="j_c1_rm">
            <hardwareInterface>hardware_interface/EffortJointInterface</hardwareInterface>
        </joint>
        <actuator name="m_c1_rm">
            <hardwareInterface>hardware_interface/EffortJointInterface</hardwareInterface>
            <mechanicalReduction>1</mechanicalReduction>
        </actuator>
    </transmission>
    <transmission name="t_thigh_rm">
        <type>transmission_interface/SimpleTransmission</type>
        <joint name="j_thigh_rm">
            <hardwareInterface>hardware_interface/EffortJointInterface</hardwareInterface>
        </joint>
        <actuator name="m_thigh_rm">
            <hardwareInterface>hardware_interface/EffortJointInterface</hardwareInterface>
            <mechanicalReduction>1</mechanicalReduction>
        </actuator>
    </transmission>
    <transmission name="t_tibia_rm">
        <type>transmission_interface/SimpleTransmission</type>
        <joint name="j_tibia_rm">
            <hardwareInterface>hardware_interface/EffortJointInterface</hardwareInterface>
        </joint>
        <actuator name="m_tibia_rm">
            <hardwareInterface>hardware_interface/EffortJointInterface</hardwareInterface>
            <mechanicalReduction>1</mechanicalReduction>
        </actuator>
    </transmission>
    <transmission name="t_c1_rr">
        <type>transmission_interface/SimpleTransmission</type>
        <joint name="j_c1_rr">
            <hardwareInterface>hardware_interface/EffortJointInterface</hardwareInterface>
        </joint>
        <actuator name="m_c1_rr">
            <hardwareInterface>hardware_interface/EffortJointInterface</hardwareInterface>
            <mechanicalReduction>1</mechanicalReduction>
        </actuator>
    </transmission>
    <transmission name="t_thigh_rr">
        <type>transmission_interface/SimpleTransmission</type>
        <joint name="j_thigh_rr">
            <hardwareInterface>hardware_interface/EffortJointInterface</hardwareInterface>
        </joint>
        <actuator name="m_thigh_rr">
            <hardwareInterface>hardware_interface/EffortJointInterface</hardwareInterface>
            <mechanicalReduction>1</mechanicalReduction>
        </actuator>
    </transmission>
    <transmission name="t_tibia_rr">
        <type>transmission_interface/SimpleTransmission</type>
        <joint name="j_tibia_rr">
            <hardwareInterface>hardware_interface/EffortJointInterface</hardwareInterface>
        </joint>
        <actuator name="m_tibia_rr">
            <hardwareInterface>hardware_interface/EffortJointInterface</hardwareInterface>
            <mechanicalReduction>1</mechanicalReduction>
        </actuator>
    </transmission>
    <transmission name="t_c1_lr">
        <type>transmission_interface/SimpleTransmission</type>
        <joint name="j_c1_lr">
            <hardwareInterface>hardware_interface/EffortJointInterface</hardwareInterface>
        </joint>
        <actuator name="m_c1_lr">
            <hardwareInterface>hardware_interface/EffortJointInterface</hardwareInterface>
            <mechanicalReduction>1</mechanicalReduction>
        </actuator>
    </transmission>
    <transmission name="t_thigh_lr">
        <type>transmission_interface/SimpleTransmission</type>
        <joint name="j_thigh_lr">
            <hardwareInterface>hardware_interface/EffortJointInterface</hardwareInterface>
        </joint>
        <actuator name="m_thigh_lr">
            <hardwareInterface>hardware_interface/EffortJointInterface</hardwareInterface>
            <mechanicalReduction>1</mechanicalReduction>
        </actuator>
    </transmission>
    <transmission name="t_tibia_lr">
        <type>transmission_interface/SimpleTransmission</type>
        <joint name="j_tibia_lr">
            <hardwareInterface>hardware_interface/EffortJointInterface</hardwareInterface>
        </joint>
        <actuator name="m_tibia_lr">
            <hardwareInterface>hardware_interface/EffortJointInterface</hardwareInterface>
            <mechanicalReduction>1</mechanicalReduction>
        </actuator>
    </transmission>
    <transmission name="t_c1_lm">
        <type>transmission_interface/SimpleTransmission</type>
        <joint name="j_c1_lm">
            <hardwareInterface>hardware_interface/EffortJointInterface</hardwareInterface>
        </joint>
        <actuator name="m_c1_lm">
            <hardwareInterface>hardware_interface/EffortJointInterface</hardwareInterface>
            <mechanicalReduction>1</mechanicalReduction>
        </actuator>
    </transmission>
    <transmission name="t_thigh_lm">
        <type>transmission_interface/SimpleTransmission</type>
        <joint name="j_thigh_lm">
            <hardwareInterface>hardware_interface/EffortJointInterface</hardwareInterface>
        </joint>
        <actuator name="m_thigh_lm">
            <hardwareInterface>hardware_interface/EffortJointInterface</hardwareInterface>
            <mechanicalReduction>1</mechanicalReduction>
        </actuator>
    </transmission>
    <transmission name="t_tibia_lm">
        <type>transmission_interface/SimpleTransmission</type>
        <joint name="j_tibia_lm">
            <hardwareInterface>hardware_interface/EffortJointInterface</hardwareInterface>
        </joint>
        <actuator name="m_tibia_lm">
            <hardwareInterface>hardware_interface/EffortJointInterface</hardwareInterface>
            <mechanicalReduction>1</mechanicalReduction>
        </actuator>
    </transmission>
    <transmission name="t_c1_lf">
        <type>transmission_interface/SimpleTransmission</type>
        <joint name="j_c1_lf">
            <hardwareInterface>hardware_interface/EffortJointInterface</hardwareInterface>
        </joint>
        <actuator name="m_c1_lf">
            <hardwareInterface>hardware_interface/EffortJointInterface</hardwareInterface>
            <mechanicalReduction>1</mechanicalReduction>
        </actuator>
    </transmission>
    <transmission name="t_thigh_lf">
        <type>transmission_interface/SimpleTransmission</type>
        <joint name="j_thigh_lf">
            <hardwareInterface>hardware_interface/EffortJointInterface</hardwareInterface>
        </joint>
        <actuator name="m_thigh_lf">
            <hardwareInterface>hardware_interface/EffortJointInterface</hardwareInterface>
            <mechanicalReduction>1</mechanicalReduction>
        </actuator>
    </transmission>
    <transmission name="t_tibia_lf">
        <type>transmission_interface/SimpleTransmission</type>
        <joint name="j_tibia_lf">
            <hardwareInterface>hardware_interface/EffortJointInterface</hardwareInterface>
        </joint>
        <actuator name="m_tibia_lf">
            <hardwareInterface>hardware_interface/EffortJointInterface</hardwareInterface>
            <mechanicalReduction>1</mechanicalReduction>
        </actuator>
    </transmission>
    <gazebo>
        <plugin name="gazebo_ros_control" filename="libgazebo_ros_control.so">
            <robotNamespace>/hexaurdf10</robotNamespace>
        </plugin>
    </gazebo>
    <gazebo reference="camera_link">
  <sensor name="camera_link_camera" type="depth">
    <update_rate>20</update_rate>
    <camera>
      <horizontal_fov>1.047198</horizontal_fov>
      <image>
        <width>640</width>
        <height>480</height>
        <format>R8G8B8</format>
      </image>
      <clip>
        <near>0.05</near>
        <far>3</far>
      </clip>
    </camera>
    <plugin name="camera_link_controller" filename="libgazebo_ros_openni_kinect.so">
      <baseline>0.2</baseline>
      <alwaysOn>true</alwaysOn>
      <updateRate>1.0</updateRate>
      <cameraName>camera_link_ir</cameraName>
      <imageTopicName>/camera_link/color/image_raw</imageTopicName>
      <cameraInfoTopicName>/camera_link/color/camera_info</cameraInfoTopicName>
      <depthImageTopicName>/camera_link/depth/image_raw</depthImageTopicName>
      <depthImageInfoTopicName>/camera_link/depth/camera_info</depthImageInfoTopicName>
      <pointCloudTopicName>/camera_link/depth/points</pointCloudTopicName>
      <frameName>camera_link</frameName>
      <pointCloudCutoff>0.5</pointCloudCutoff>
      <pointCloudCutoffMax>3.0</pointCloudCutoffMax>
      <distortionK1>0.00000001</distortionK1>
      <distortionK2>0.00000001</distortionK2>
      <distortionK3>0.00000001</distortionK3>
      <distortionT1>0.00000001</distortionT1>
      <distortionT2>0.00000001</distortionT2>
      <CxPrime>0</CxPrime>
      <Cx>0</Cx>
      <Cy>0</Cy>
      <focalLength>0</focalLength>
      <hackBaseline>0</hackBaseline>
    </plugin>
  </sensor>
</gazebo>
    <gazebo reference="imu_link">
    <gravity>true</gravity>
    <sensor name="imu_sensor" type="imu">
      <always_on>true</always_on>
      <update_rate>100</update_rate>
      <visualize>true</visualize>
      <topic>__default_topic__</topic>
      <plugin filename="libgazebo_ros_imu_sensor.so" name="imu_plugin">
        <topicName>imu</topicName>
        <bodyName>imu_link</bodyName>
        <updateRateHZ>10.0</updateRateHZ>
        <gaussianNoise>0.0</gaussianNoise>
        <xyzOffset>0 0 0</xyzOffset>
        <rpyOffset>0 0 0</rpyOffset>
        <frameName>imu_link</frameName>
        <initialOrientationAsReference>true</initialOrientationAsReference>
      </plugin>
      <pose>0 0 0 0 0 0</pose>
    </sensor>
  </gazebo>
  <gazebo>
<plugin name="p3d_base_controller" filename="libgazebo_ros_p3d.so">
  <alwaysOn>true</alwaysOn>
  <updateRate>50.0</updateRate>
  <bodyName>base_link</bodyName>
  <topicName>odom</topicName>
  <gaussianNoise>0.01</gaussianNoise>
  <frameName>world</frameName>
  <xyzOffsets>0 0 0</xyzOffsets>
  <rpyOffsets>0 0 0</rpyOffsets>
</plugin>
</gazebo> 
  <gazebo reference="base_link">
    <material>Gazebo/Yellow</material>
  </gazebo>
  <gazebo reference="c1_rf">
    <material>Gazebo/Black</material>
  </gazebo>
  <gazebo reference="c1_rm">
    <material>Gazebo/Black</material>
  </gazebo>
  <gazebo reference="c1_rr">
    <material>Gazebo/Black</material>
  </gazebo>
  <gazebo reference="c1_lr">
    <material>Gazebo/Black</material>
  </gazebo>
  <gazebo reference="c1_lm">
    <material>Gazebo/Black</material>
  </gazebo>
  <gazebo reference="c1_lf">
    <material>Gazebo/Black</material>
  </gazebo>
  <gazebo reference="thigh_rf">
    <material>Gazebo/Black</material>
  </gazebo>
  <gazebo reference="thigh_rm">
    <material>Gazebo/Black</material>
  </gazebo>
  <gazebo reference="thigh_rr">
    <material>Gazebo/Black</material>
  </gazebo>
  <gazebo reference="thigh_lr">
    <material>Gazebo/Black</material>
  </gazebo>
  <gazebo reference="thigh_lm">
    <material>Gazebo/Black</material>
  </gazebo>
  <gazebo reference="thigh_lf">
    <material>Gazebo/Black</material>
  </gazebo>
  <gazebo reference="tibia_rf">
    <material>Gazebo/Black</material>
  </gazebo>
  <gazebo reference="tibia_rm">
    <material>Gazebo/Black</material>
  </gazebo>
  <gazebo reference="tibia_rr">
    <material>Gazebo/Black</material>
  </gazebo>
  <gazebo reference="tibia_lr">
    <material>Gazebo/Black</material>
  </gazebo>
  <gazebo reference="tibia_lm">
    <material>Gazebo/Black</material>
  </gazebo>
  <gazebo reference="tibia_lf">
    <material>Gazebo/Black</material>
  </gazebo>
  <gazebo reference="camera_link">
    <material>Gazebo/Blue</material>
  </gazebo>
  <gazebo reference="imu_link">
    <material>Gazebo/Green</material>
  </gazebo>
  <gazebo reference="tip1">
    <material>Gazebo/RedGlow</material>
  </gazebo>
  <gazebo reference="tip2">
    <material>Gazebo/RedGlow</material>
  </gazebo>
  <gazebo reference="tip3">
    <material>Gazebo/RedGlow</material>
  </gazebo>
  <gazebo reference="tip4">
    <material>Gazebo/RedGlow</material>
  </gazebo>
  <gazebo reference="tip5">
    <material>Gazebo/RedGlow</material>
  </gazebo>
  <gazebo reference="tip6">
    <material>Gazebo/RedGlow</material>
  </gazebo>
</robot>
